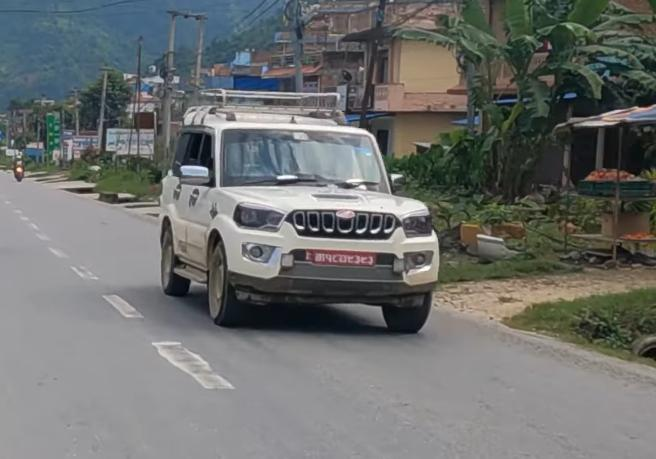SUV: (139, 79, 445, 341)
